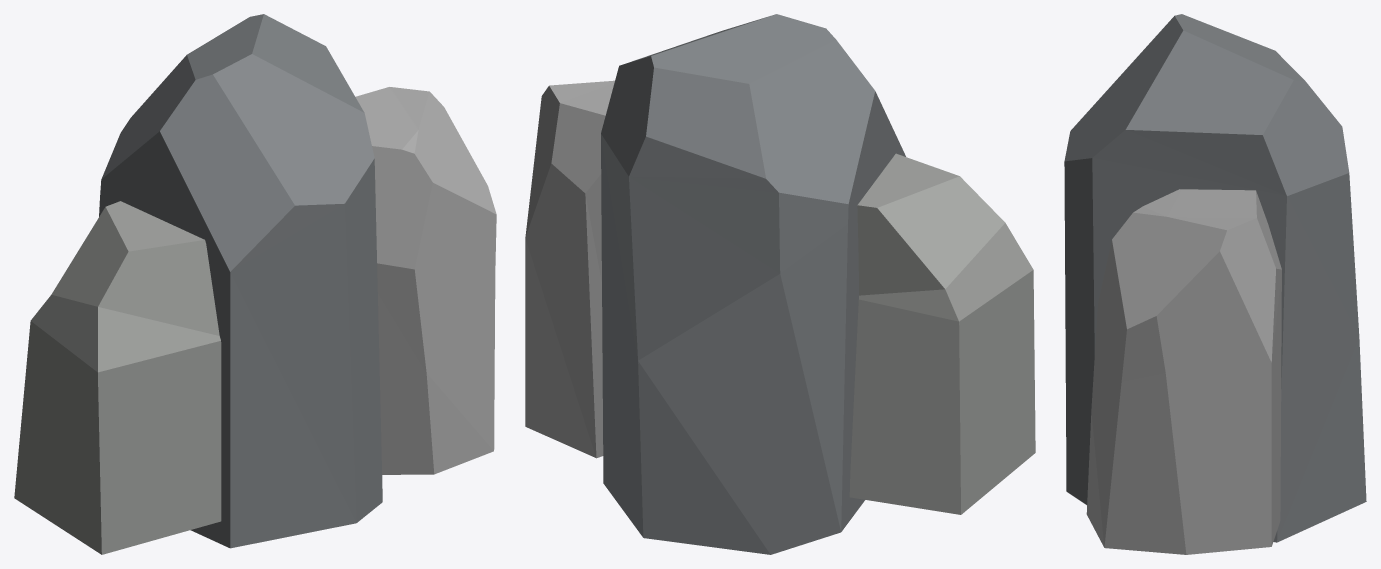
Rendered from Rock_Wall_03.fbx.
The picture shows the model from 3 angles, left to right: view 1: azimuth 30°, elevation 25°; view 2: azimuth 150°, elevation 25°; view 3: azimuth 270°, elevation 25°; orthographic projection. The views are drawn at different scales.
Visible parts, largest first — view 1: Rock_Wall_03; view 2: Rock_Wall_03; view 3: Rock_Wall_03.
Boxes of the visible parts, x1,y1,x2,y2 form: Rock_Wall_03: (14,14,496,554); Rock_Wall_03: (525,14,1035,554); Rock_Wall_03: (1064,14,1366,554).
Bounding box in the file's own units: 4.55 × 4.56 × 2.76.
